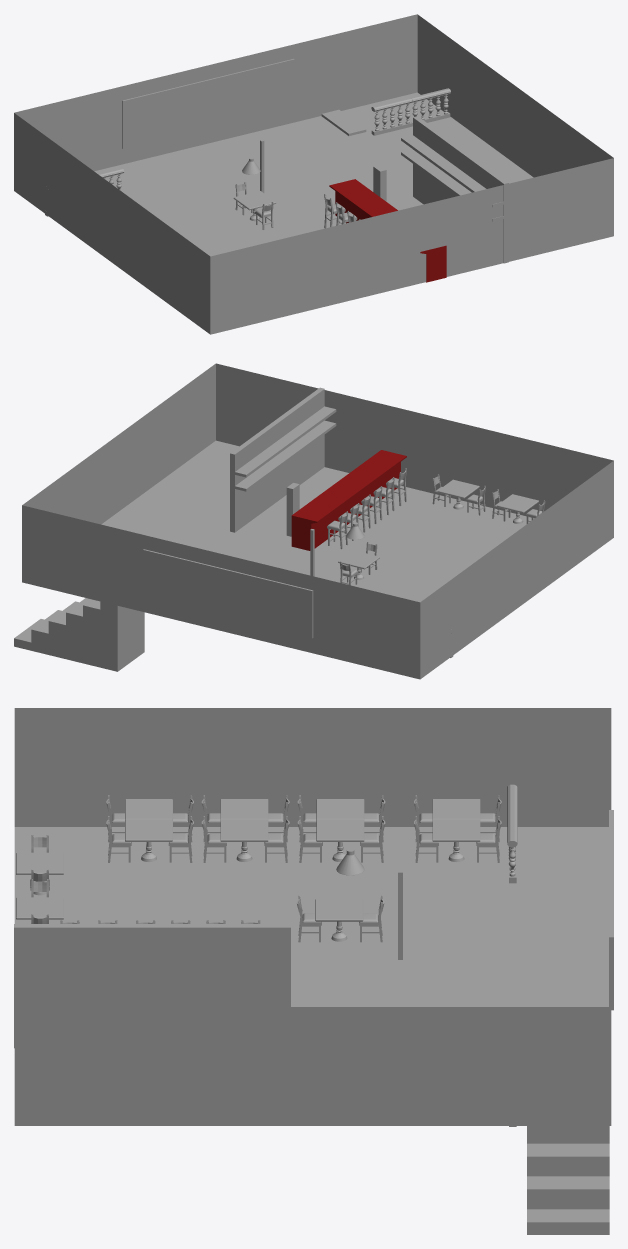
File: Room semi block out.fbx
3 views of the same model, one above another, from view 1: azimuth 30°, elevation 25°; view 2: azimuth 150°, elevation 25°; view 3: azimuth 270°, elevation 25° (orthographic). The views are drawn at different scales.
Parts seen in each view (by area): view 1: Room, Window, Wall, Bar, Wall2, Wall3, Railing, Railing1, Stairs, Table; view 2: Room, Window, Stairs, Wall, Bar, Wall3, Wall2, polySurface9, polySurface15, Table, My_height; view 3: Room, Wall, Stairs, Table2, Table6, Table, Table8, Table4, polySurface15, polySurface9, Table1, Table3 (+3 smaller).
Boxes of the visible parts, x1,y1,x2,y2 form: Room: [14, 14, 613, 334]; Window: [122, 59, 294, 148]; Wall: [413, 116, 508, 263]; Bar: [329, 179, 446, 282]; Wall2: [401, 135, 503, 207]; Wall3: [401, 149, 503, 221]; Railing: [371, 97, 412, 135]; Railing1: [410, 88, 450, 126]; Stairs: [321, 109, 366, 135]; Table: [233, 191, 276, 221]; Room: [22, 363, 613, 679]; Window: [143, 549, 313, 638]; Stairs: [14, 598, 144, 671]; Wall: [230, 387, 324, 532]; Bar: [291, 450, 406, 550]; Wall3: [235, 420, 336, 491]; Wall2: [235, 406, 336, 477]; polySurface9: [437, 479, 479, 509]; polySurface15: [497, 494, 538, 523]; Table: [338, 550, 379, 580]; My_height: [286, 483, 299, 536]; Room: [14, 708, 611, 1125]; Wall: [14, 924, 290, 1048]; Stairs: [527, 1126, 609, 1234]; Table2: [432, 819, 480, 862]; Table6: [220, 819, 268, 861]; Table: [315, 899, 363, 941]; Table8: [125, 819, 172, 861]; Table4: [316, 819, 364, 862]; polySurface15: [16, 852, 63, 895]; polySurface9: [16, 897, 63, 919]; Table1: [432, 799, 480, 819]; Table3: [316, 799, 364, 819].
Size of the model in its own units: 1506 by 512 by 1250.
